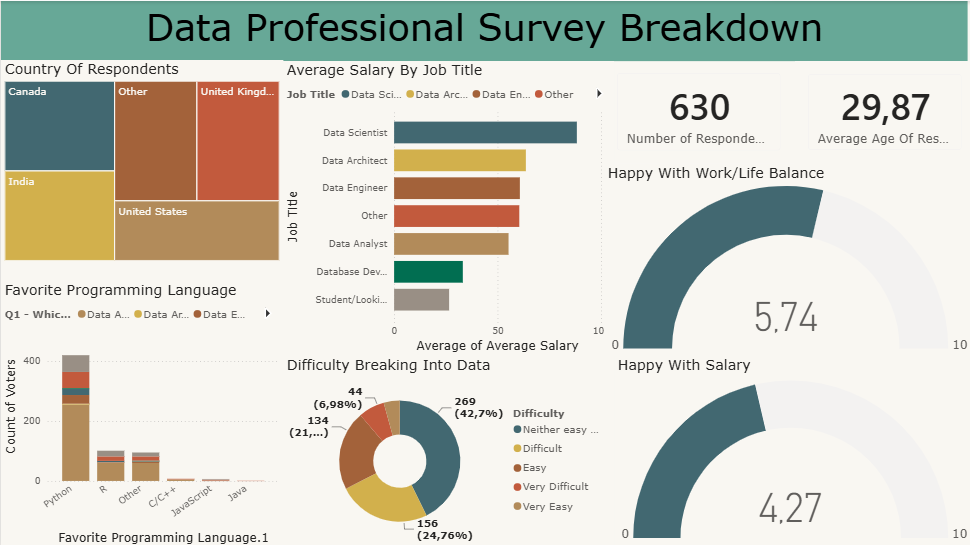

What the dashboard file says about the page in this screenshot:
{"tool":"powerbi","page":{"name":"Page 1","canvas":[1280,720],"ordinal":0},"visuals":[{"type":"cardVisual","fields":{"Data":["CountNonNull(Data Professional Survey.Unique ID)"]},"box":[792.2,77.5,249.6,136.1],"z":0},{"type":"textbox","box":[10,290,280,280],"z":1000},{"type":"textbox","box":[0,0,1269.9,78.9],"z":2000},{"type":"cardVisual","fields":{"Data":["Avg(Data Professional Survey.Q10 - Current Age)"]},"box":[1043.7,79.4,236.3,134.2],"z":3000},{"type":"barChart","title":"Average Salary By Job Title","fields":{"Category":["Data Professional Survey.Q1 - Which Title Best Fits your Current Role?.1"],"Y":["Avg(Data Professional Survey.Average Salary)"],"Series":["Data Professional Survey.Q1 - Which Title Best Fits your Current Role?.1"]},"box":[370.6,79.4,434.9,387.6],"z":4000},{"type":"columnChart","title":"Favorite Programming Language","fields":{"Category":["Data Professional Survey.Q5 - Favorite Programming Language.1"],"Y":["CountNonNull(Data Professional Survey.Unique ID)"],"Series":["Data Professional Survey.Q1 - Which Title Best Fits your Current Role?.1"]},"box":[0,368.2,370.3,351],"z":5000},{"type":"treemap","title":"Country Of Respondents","fields":{"Group":["Data Professional Survey.Q11 - Which Country do you live in?.1"],"Values":["Count(Data Professional Survey.Q11 - Which Country do you live in?.1)"]},"box":[0,77.5,370.6,268.5],"z":6000},{"type":"gauge","title":"Happy With Salary","fields":{"Y":["Avg(Data Professional Survey.Q6 - How Happy are you in your Current Position with the following? (Salary))"],"MinValue":["Min(Data Professional Survey.Q6 - How Happy are you in your Current Position with the following? (Salary))"],"MaxValue":["Max(Data Professional Survey.Q6 - How Happy are you in your Current Position with the following? (Salary))"]},"box":[805.4,467,474.6,253.4],"z":7000},{"type":"gauge","title":"Happy With Work/Life Balance","fields":{"Y":["Avg(Data Professional Survey.Q6 - How Happy are you in your Current Position with the following? (Work/Life Balance))"],"MinValue":["Min(Data Professional Survey.Q6 - How Happy are you in your Current Position with the following? (Work/Life Balance))1"],"MaxValue":["Max(Data Professional Survey.Q6 - How Happy are you in your Current Position with the following? (Work/Life Balance))2"]},"box":[792.2,213.6,487.8,253.4],"z":8000},{"type":"pieChart","title":"Difficulty Breaking Into Data","fields":{"Category":["Data Professional Survey.Q7 - How difficult was it for you to break into Data?"],"Y":["CountNonNull(Data Professional Survey.Q7 - How difficult was it for you to break into Data?)"]},"box":[370.6,467,434.9,253.4],"z":9000}]}

Visuals, with their boxes in screenshot pixels (x1, y1, x2, y2), scaled from the page's 1280x720 canvas onto the 970x545 screenshot:
cardVisual - CountNonNull(Data Professional Survey.Unique ID): <region>600, 59, 789, 162</region>
textbox: <region>8, 220, 220, 431</region>
textbox: <region>0, 0, 962, 60</region>
cardVisual - Avg(Data Professional Survey.Q10 - Current Age): <region>791, 60, 969, 162</region>
"Average Salary By Job Title" barChart: <region>281, 60, 610, 353</region>
"Favorite Programming Language" columnChart: <region>0, 279, 281, 544</region>
"Country Of Respondents" treemap: <region>0, 59, 281, 262</region>
"Happy With Salary" gauge: <region>610, 353, 969, 544</region>
"Happy With Work/Life Balance" gauge: <region>600, 162, 969, 353</region>
"Difficulty Breaking Into Data" pieChart: <region>281, 353, 610, 544</region>
